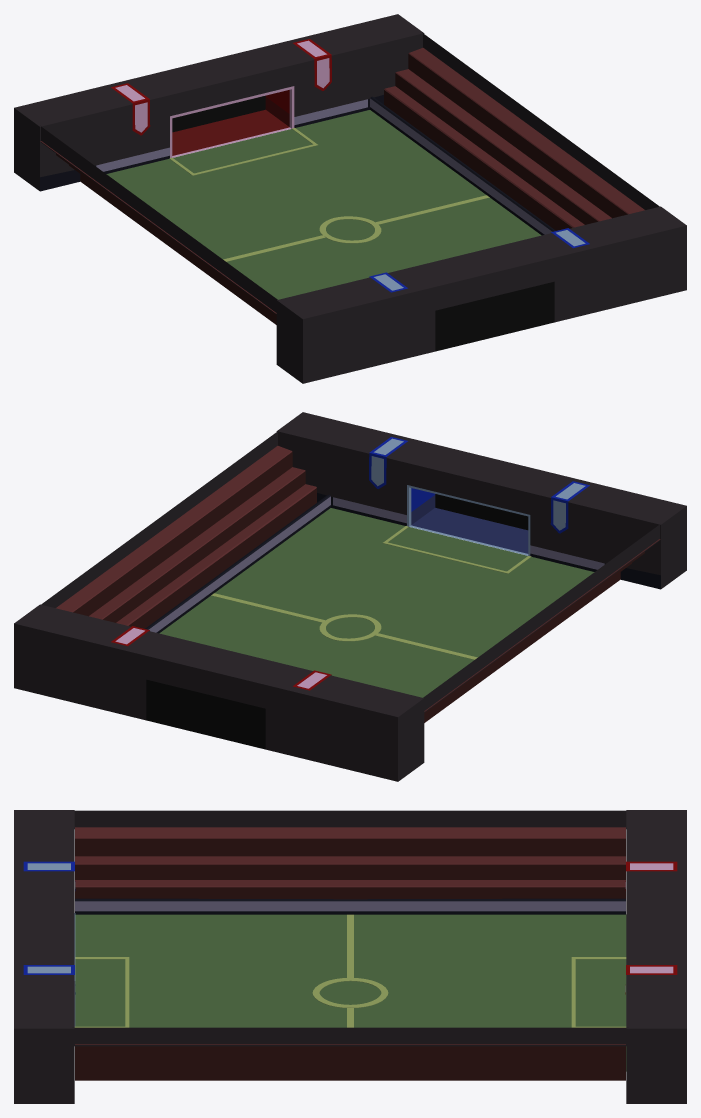
File: court.obj
3 views of the same model, one above another, from view 1: azimuth 30°, elevation 25°; view 2: azimuth 150°, elevation 25°; view 3: azimuth 270°, elevation 25° (orthographic). The views are drawn at different scales.
Parts seen in each view (by area): view 1: Walls_Cube, Floor_Plane.001, GoalRed_Cube.003, GoalBlue_Cube.006; view 2: Walls_Cube, Floor_Plane.001, GoalBlue_Cube.006, GoalRed_Cube.003; view 3: Walls_Cube, Floor_Plane.001, GoalBlue_Cube.006, GoalRed_Cube.003.
Part boxes in pixels (left/top/right/bottom): Walls_Cube: left=14, top=14, right=686, bottom=383; Floor_Plane.001: left=106, top=110, right=541, bottom=299; GoalRed_Cube.003: left=111, top=39, right=331, bottom=157; GoalBlue_Cube.006: left=369, top=228, right=589, bottom=351; Walls_Cube: left=14, top=412, right=686, bottom=781; Floor_Plane.001: left=159, top=508, right=594, bottom=697; GoalBlue_Cube.006: left=369, top=437, right=589, bottom=555; GoalRed_Cube.003: left=111, top=626, right=331, bottom=749; Walls_Cube: left=14, top=810, right=686, bottom=1103; Floor_Plane.001: left=75, top=914, right=626, bottom=1071; GoalBlue_Cube.006: left=23, top=861, right=75, bottom=1026; GoalRed_Cube.003: left=625, top=861, right=677, bottom=994.
Size of the model in its own units: 58.13 by 10.02 by 75.66.
